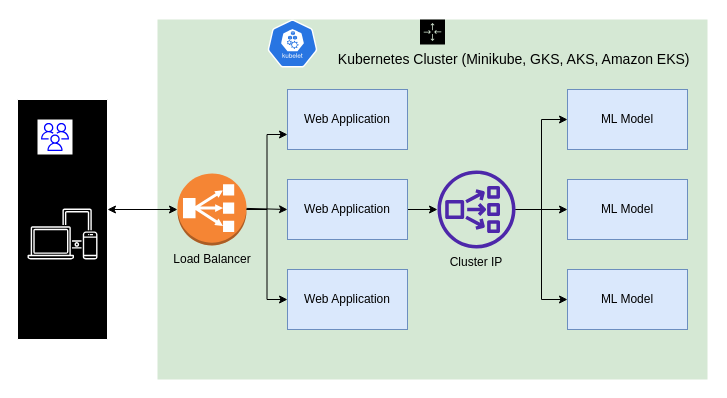
This 727x398 diagram has some shape labels left out. Each missing label, with the box of its shape:
devices: (27, 208, 97, 259)
Users: (36, 118, 72, 154)
